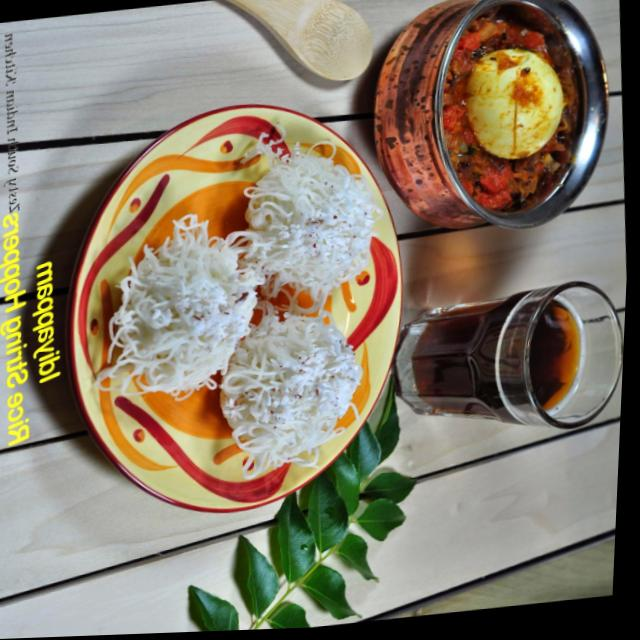EGG: (460, 46, 566, 162)
IDIYAPPAM: (113, 137, 378, 474)
